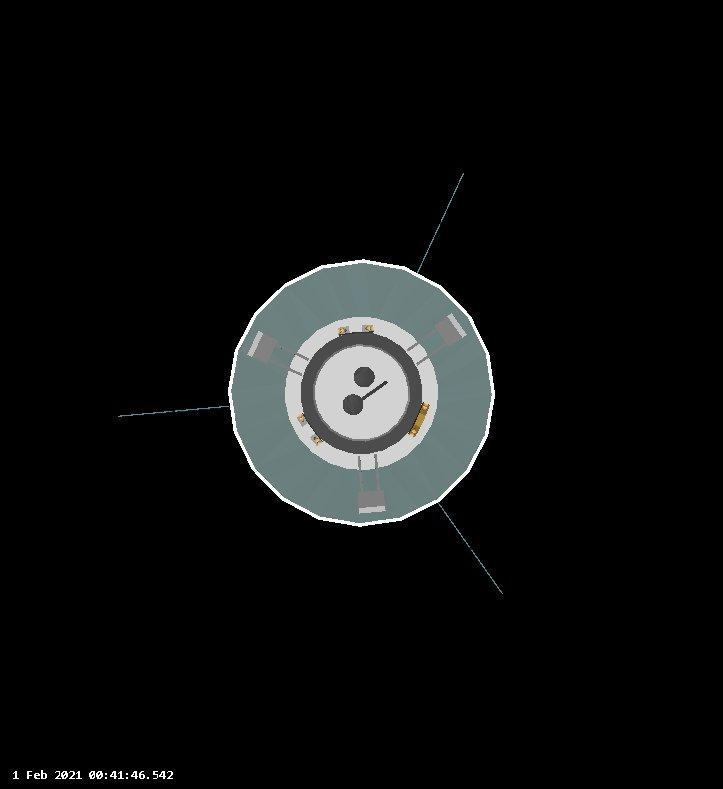solar: (437, 498, 508, 599), (416, 168, 470, 276), (115, 395, 232, 423)
thruster: (226, 258, 497, 531)
